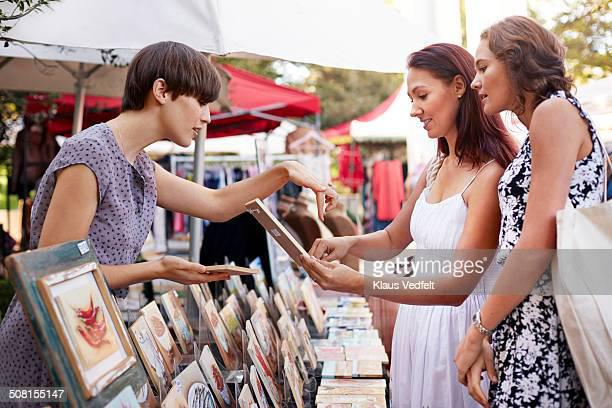without_mask: (111, 32, 225, 147), (473, 17, 571, 122), (396, 35, 476, 145)
